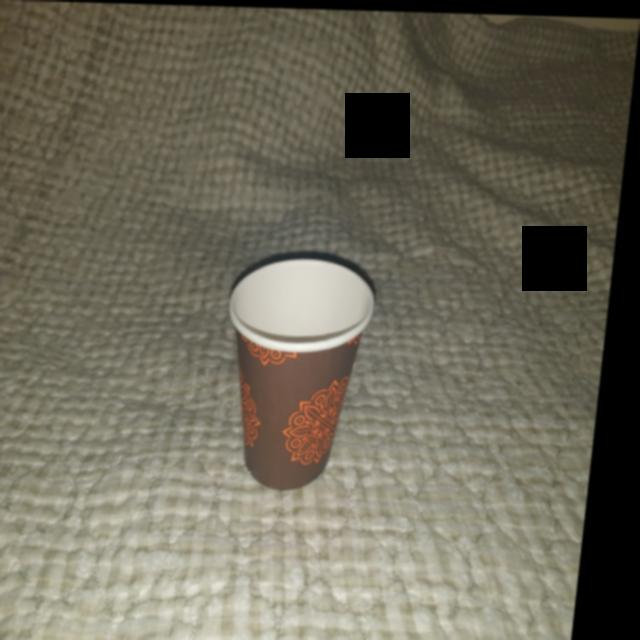cups: (221, 254, 390, 492)
